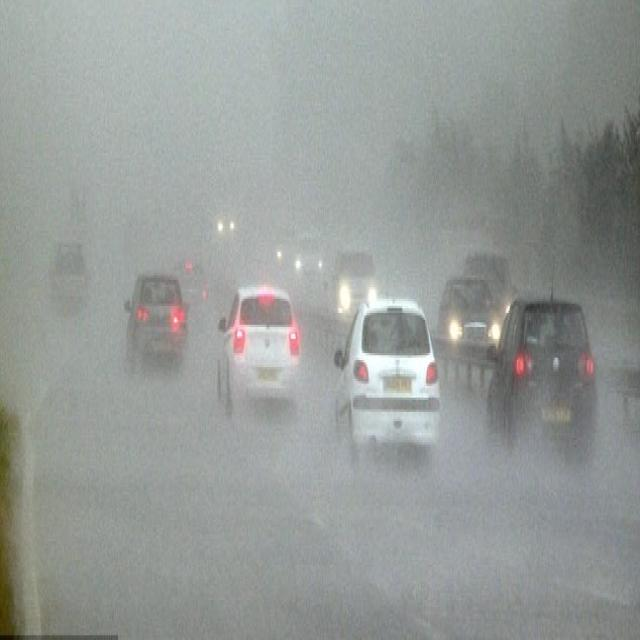car: (336, 299, 444, 461), (483, 296, 598, 438), (223, 282, 299, 410), (435, 266, 504, 372), (126, 271, 188, 367), (462, 250, 518, 318), (45, 238, 91, 320), (331, 247, 379, 322), (174, 252, 210, 313), (293, 228, 325, 282)
